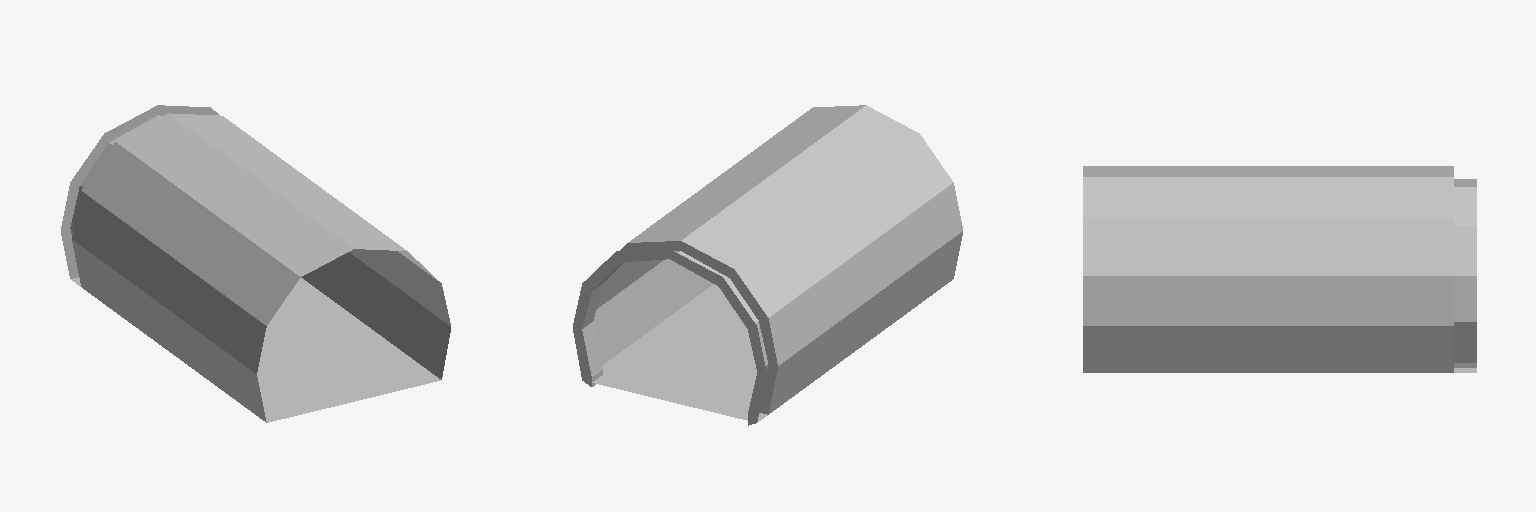
The model's file is underground_section_forward.obj.
The picture shows the model from 3 angles: view 1: azimuth 30°, elevation 25°; view 2: azimuth 150°, elevation 25°; view 3: azimuth 270°, elevation 25°; orthographic projection.
Visible parts, largest first — view 1: SewerSectionI_00; view 2: SewerSectionI_00; view 3: SewerSectionI_00.
Boxes of the visible parts, x1=… form: SewerSectionI_00: x1=61, y1=105, x2=450, y2=422; SewerSectionI_00: x1=573, y1=105, x2=962, y2=425; SewerSectionI_00: x1=1083, y1=166, x2=1476, y2=372.
Size of the model in its own units: 4 by 3.1 by 7.